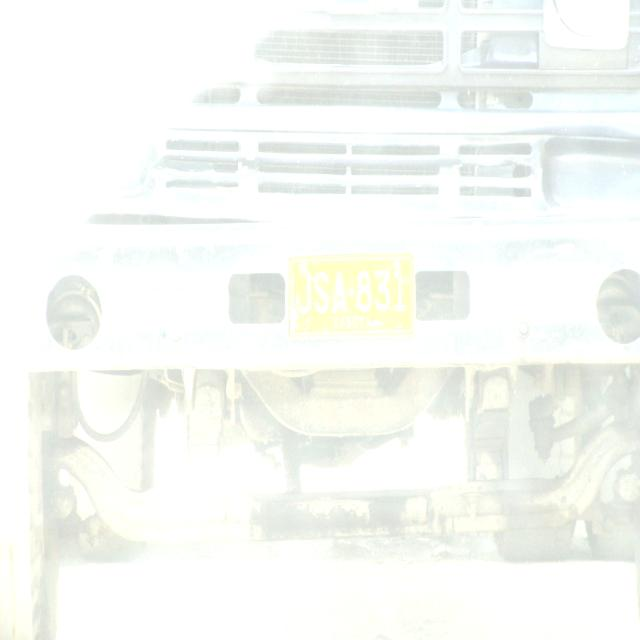placa: (286, 249, 417, 341)
